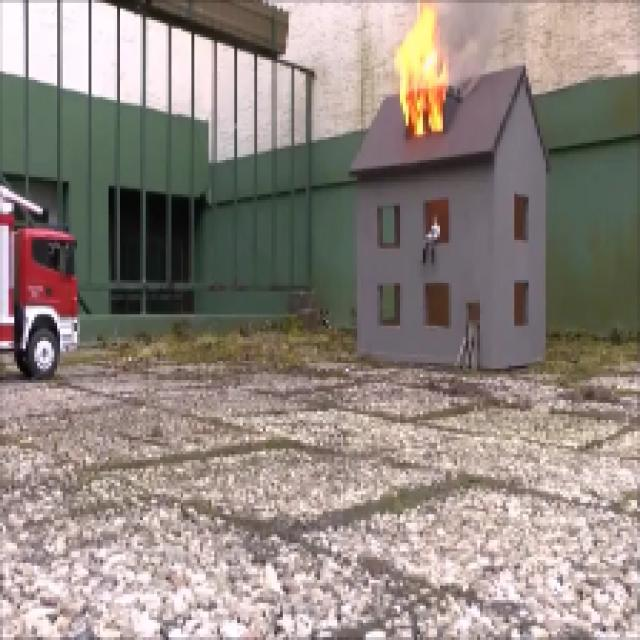fire: (389, 18, 446, 133)
